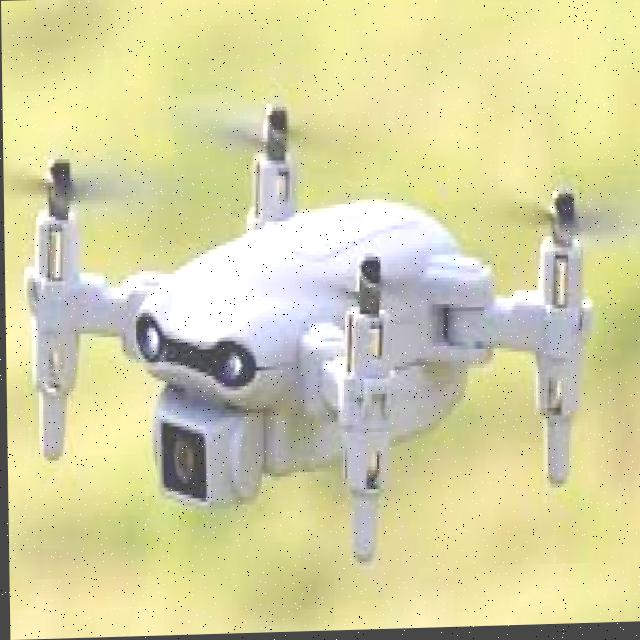drone: (1, 91, 617, 577)
